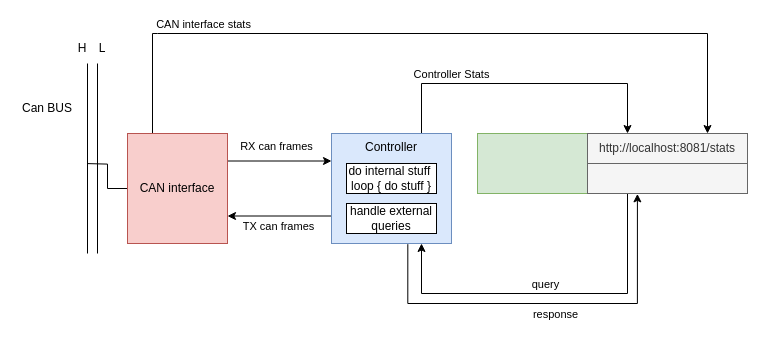
Some shapes in this 765 by 337 pixel diagram are drawn without their labels. The shapes that lost their labels are listed below. From the top down, each one's centre as x and y in pixels, then its label:
At point 532,163: "Webserver".
At point 667,178: "http://localhost:8081/query".
